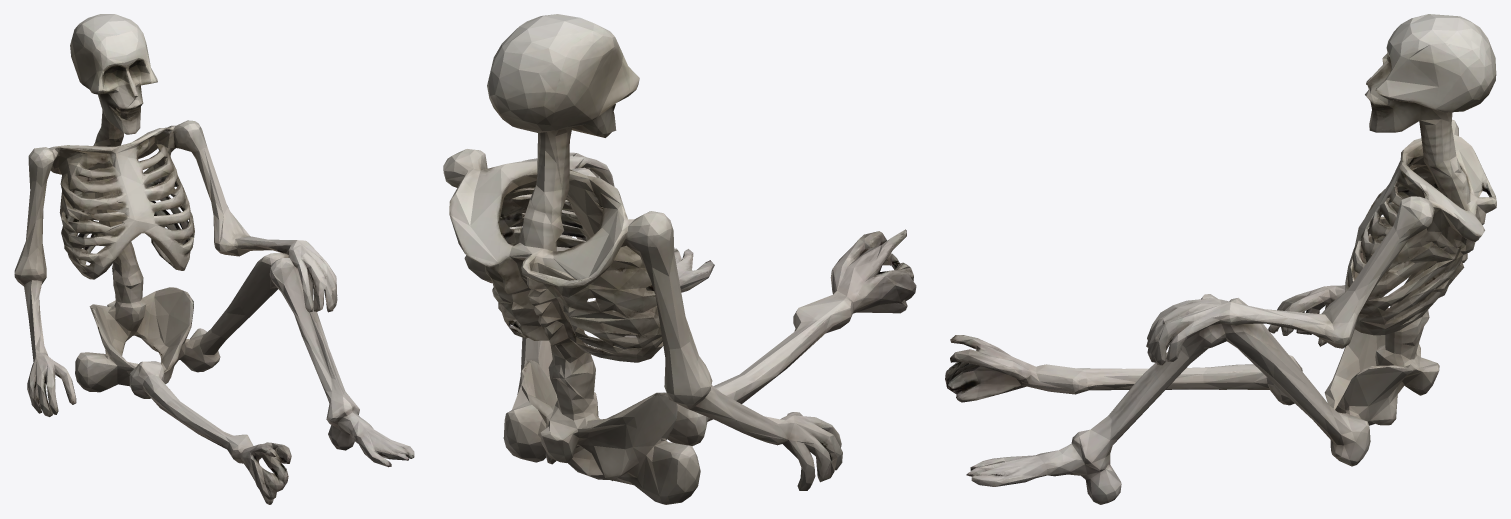
The model's file is skeleton_sitting_knee_up.glb.
3 views of the same model, side by side, from view 1: azimuth 30°, elevation 25°; view 2: azimuth 150°, elevation 25°; view 3: azimuth 270°, elevation 25° (orthographic). The views are drawn at different scales.
Parts seen in each view (by area): view 1: geometry_0; view 2: geometry_0; view 3: geometry_0.
Boxes of the visible parts, x1=… form: geometry_0: x1=14, y1=14, x2=414, y2=504; geometry_0: x1=443, y1=14, x2=916, y2=504; geometry_0: x1=945, y1=14, x2=1496, y2=504.
Bounding box in the file's own units: 0.6387 × 0.8522 × 0.9981.
1 material, 1 textured.
